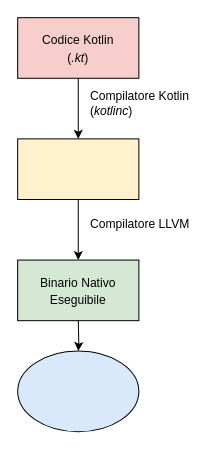
The diagram is 217 pixels wide and 449 high, and some of its shapes have lost their labels. The shapes that lost their labels are listed below. From the top down, each one's box as (x1, y1, x2, y2) in pixels, then its label:
(17, 138, 139, 199): Rappresentazione Intermedia ( IR )
(17, 350, 139, 432): iOS Runtime
